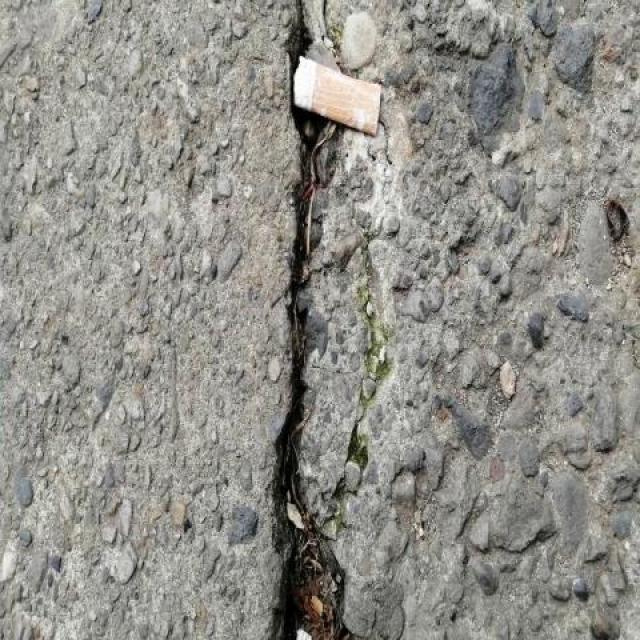non-organic waste: (289, 55, 383, 144)
